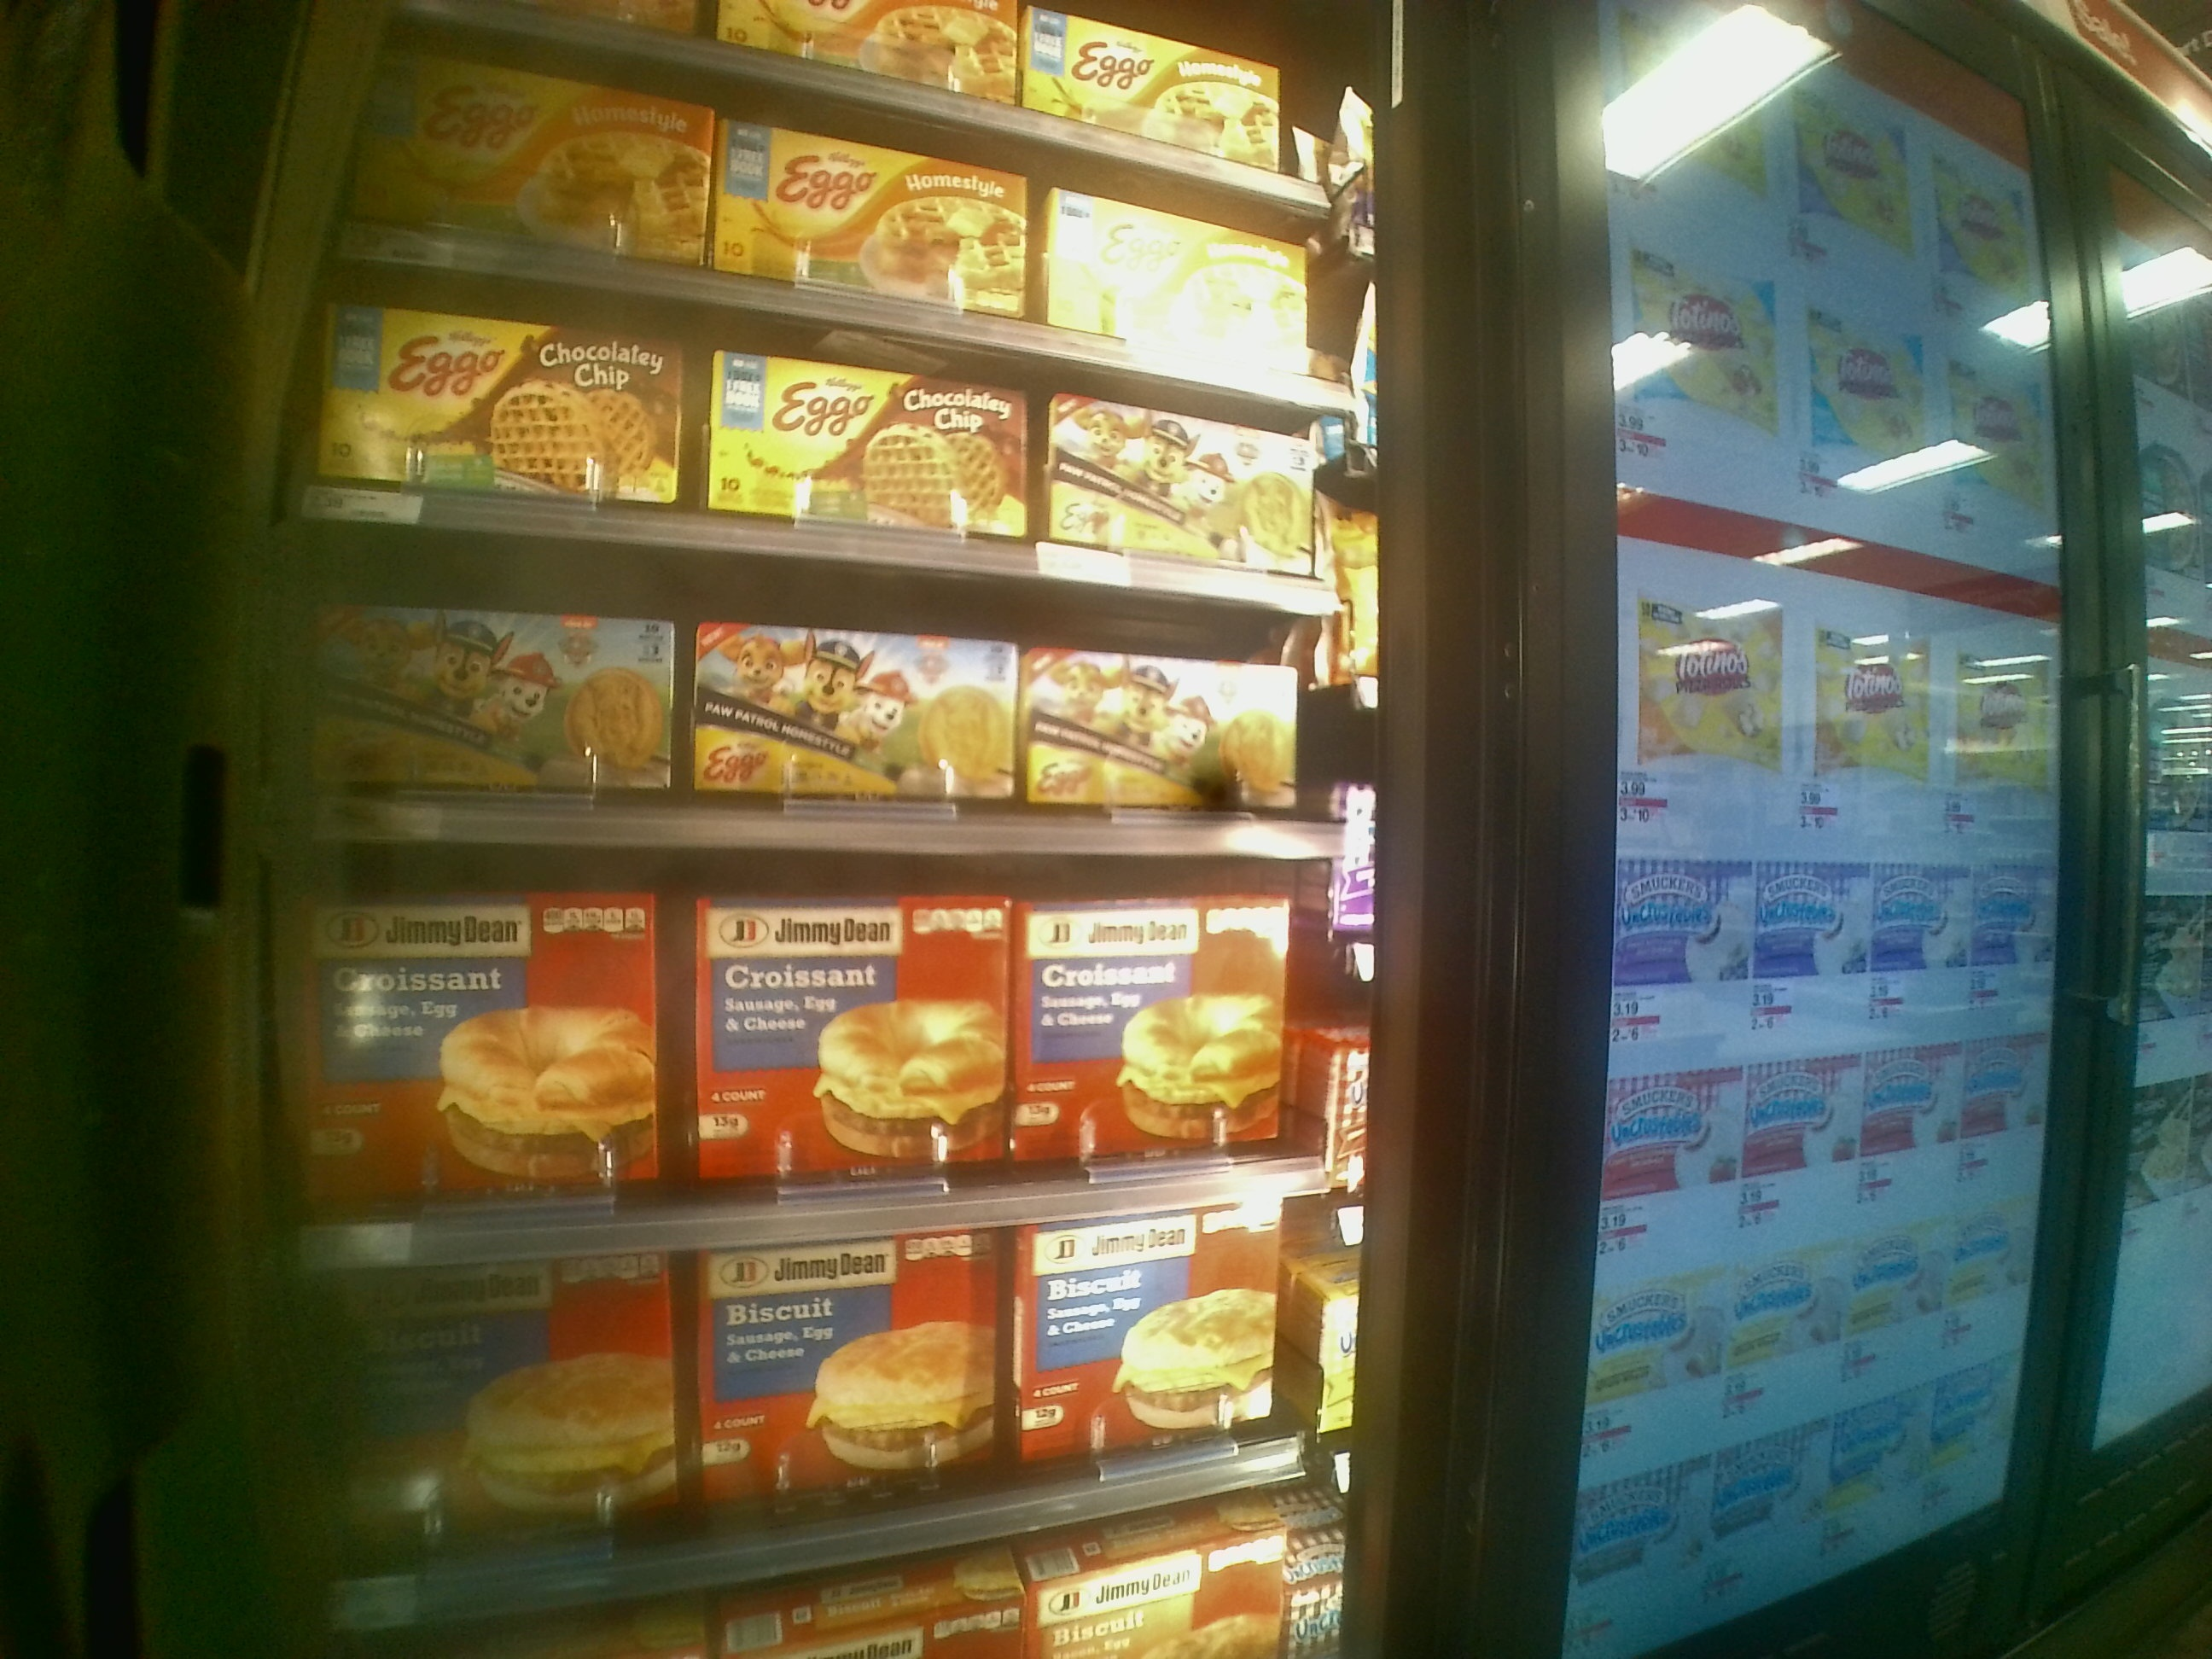shelf: (286, 831, 1360, 1263)
